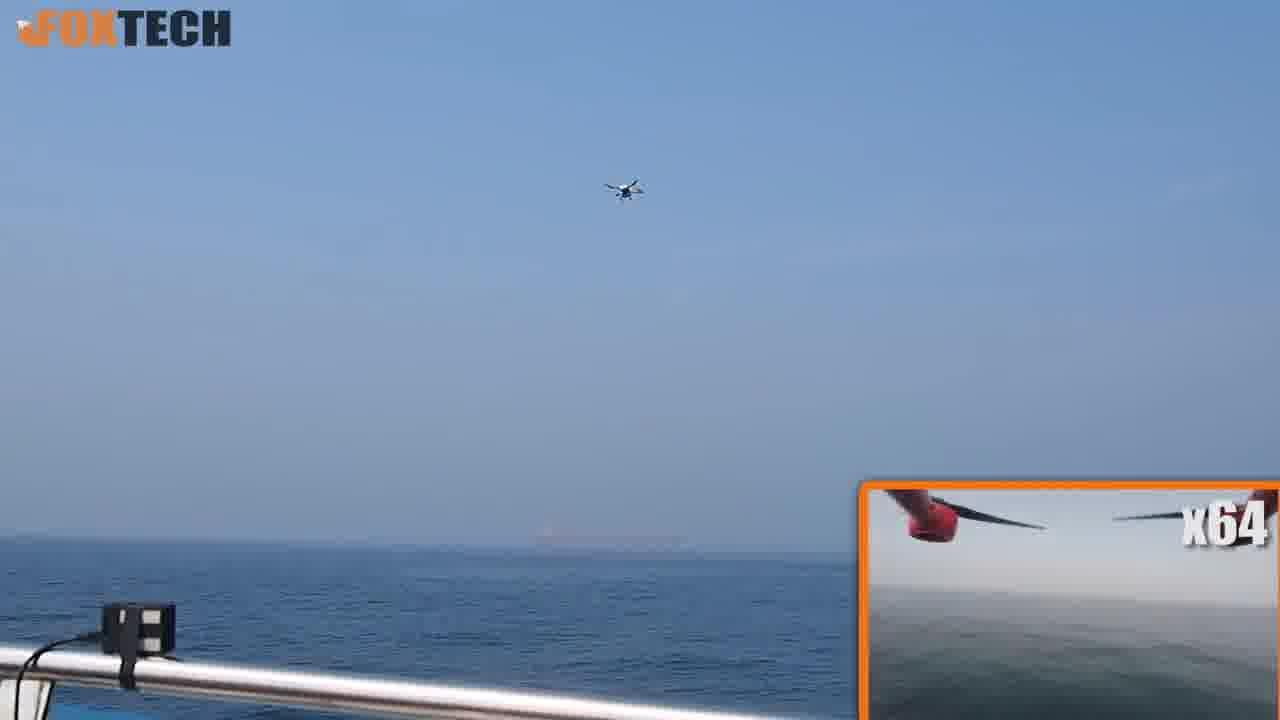drone: (595, 176, 655, 210)
